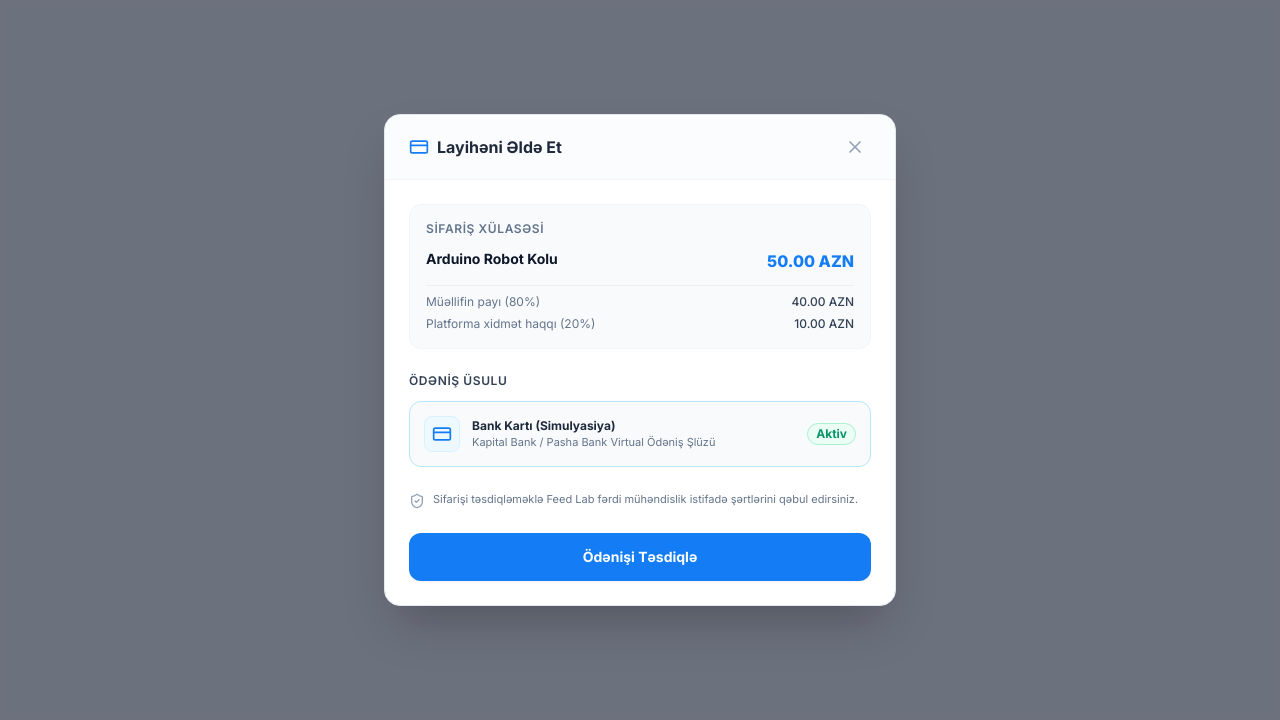
Scenario: CheckoutModal Component › calls checkout and payment simulation when confirming payment
This screenshot has width=1280, height=720.
Click the button "Ödənişi Təsdiqlə". click: (640, 557)
box: [409,533,871,581]
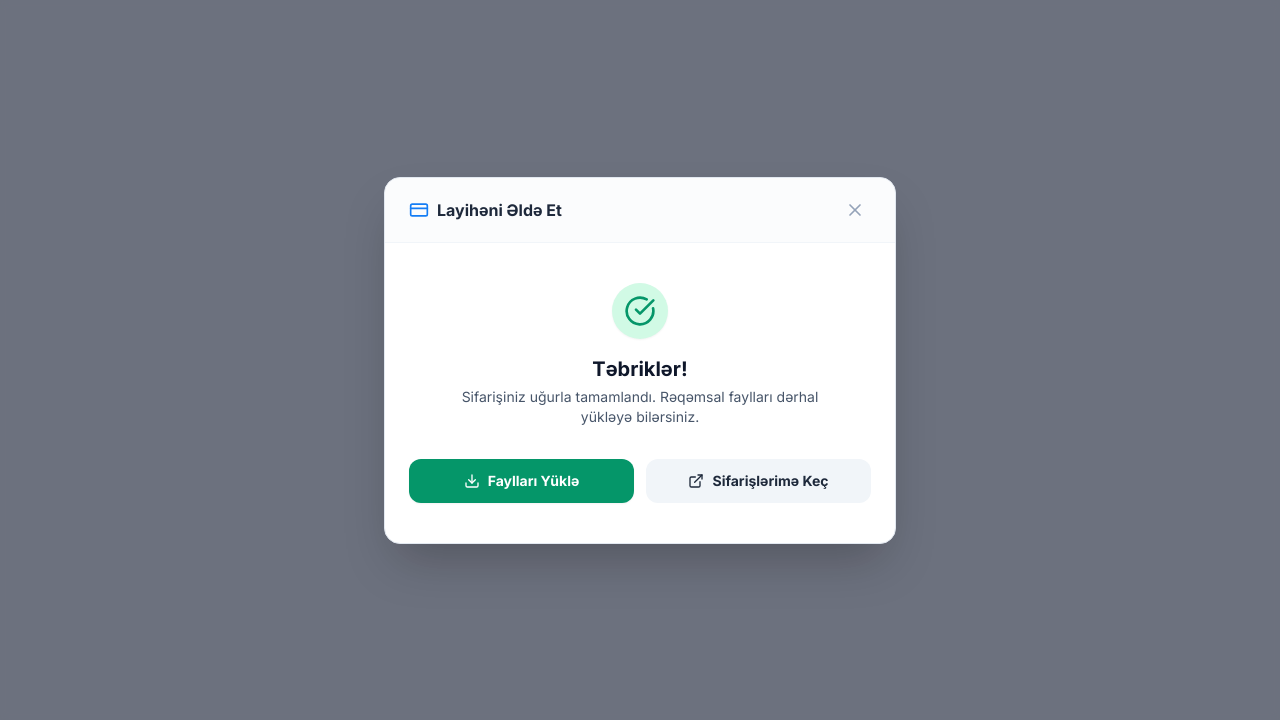
Expected: the heading "Təbriklər!" is shown, [592,356,688,380]
